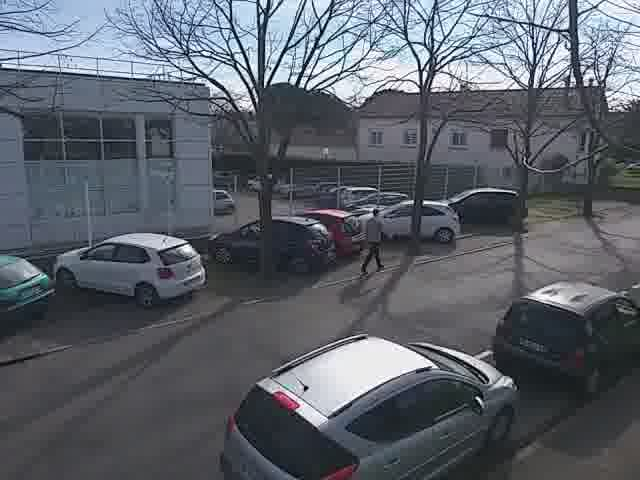persona: (357, 195, 392, 275)
